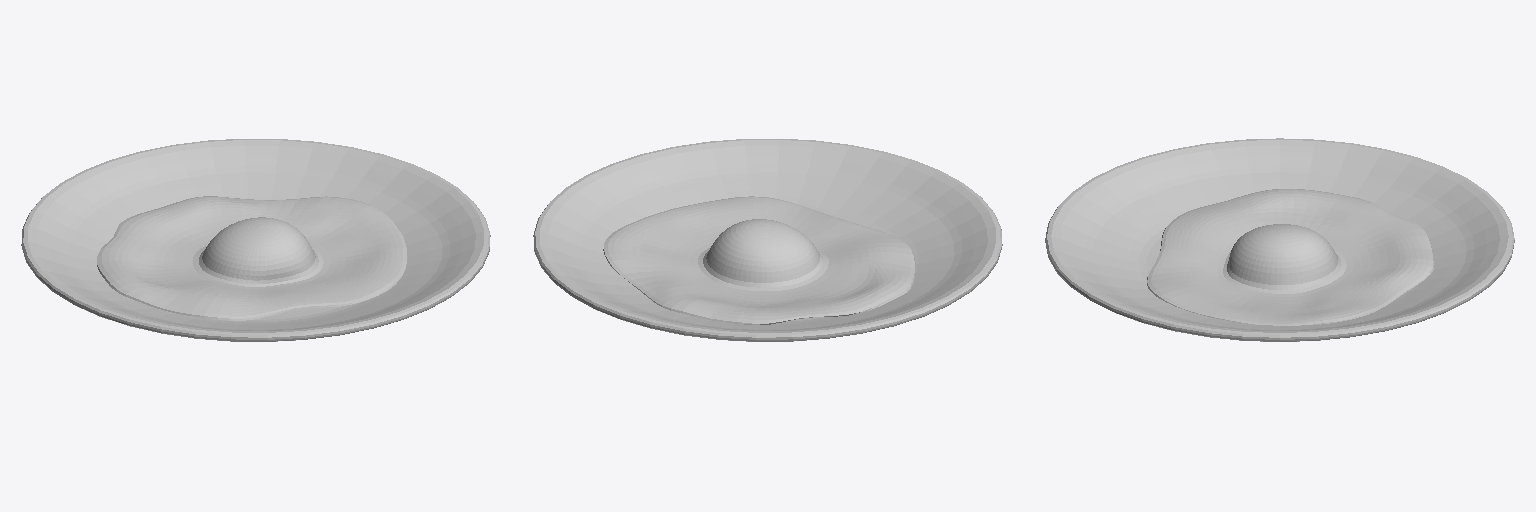
Rendered from omelette_in_plate.obj.
3 views of the same model, side by side, from view 1: azimuth 30°, elevation 25°; view 2: azimuth 150°, elevation 25°; view 3: azimuth 270°, elevation 25° (orthographic).
Parts seen in each view (by area): view 1: plate_Circle.002, egg_Sphere; view 2: plate_Circle.002, egg_Sphere; view 3: plate_Circle.002, egg_Sphere.
Boxes of the visible parts, <box> form: plate_Circle.002: <box>21,139,490,341</box>; egg_Sphere: <box>97,196,407,320</box>; plate_Circle.002: <box>533,139,1002,341</box>; egg_Sphere: <box>603,196,915,324</box>; plate_Circle.002: <box>1045,138,1514,341</box>; egg_Sphere: <box>1147,189,1434,325</box>.
Bounding box in the file's own units: 3.34 × 0.4476 × 3.34.